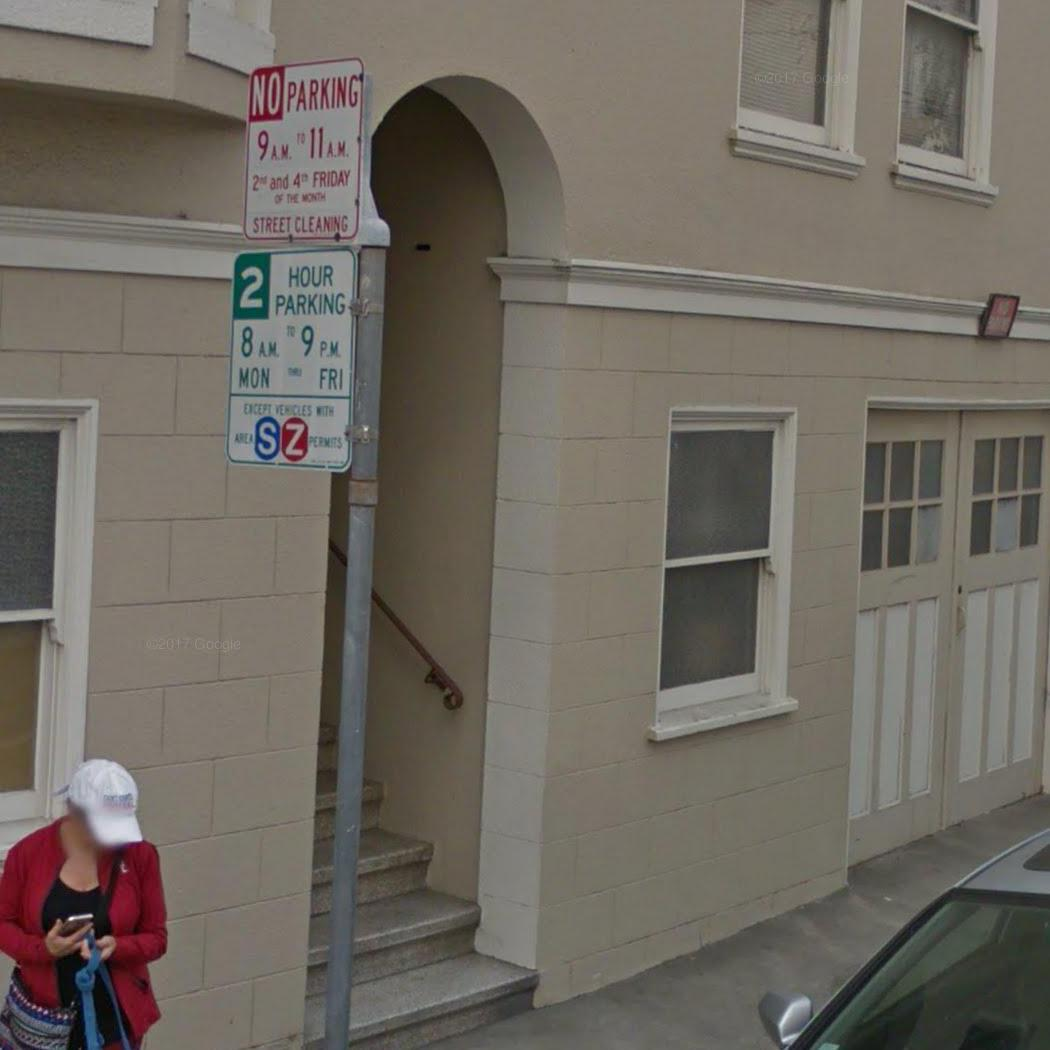2 Hour Parking: (223, 241, 364, 466)
No Parking: (237, 52, 372, 249)
